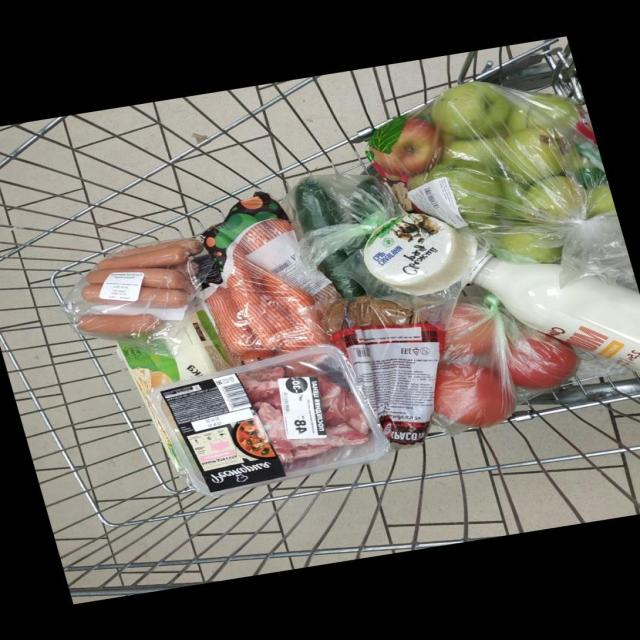Apple: (425, 164, 503, 224), (430, 81, 511, 138), (372, 117, 441, 179), (500, 127, 563, 182), (493, 225, 564, 263), (524, 175, 583, 217), (442, 137, 499, 171), (529, 93, 581, 128), (587, 184, 616, 217), (501, 177, 525, 203), (506, 107, 530, 132), (566, 147, 590, 170), (498, 203, 520, 219)
Bread: (323, 295, 443, 445)
Carrot: (226, 248, 280, 351), (261, 268, 327, 343), (205, 285, 262, 353), (260, 293, 303, 347), (238, 222, 272, 253), (266, 219, 291, 234)
Cheese: (362, 212, 477, 295)
Cucumber: (293, 176, 335, 233), (319, 249, 364, 298), (347, 175, 380, 222)
Eggs: (117, 309, 231, 470)
Meat: (151, 344, 390, 494)
Milk: (475, 257, 640, 372)
Sausages: (61, 239, 202, 354)
Tomatoes: (434, 362, 516, 427), (508, 335, 579, 390), (445, 301, 495, 354)
